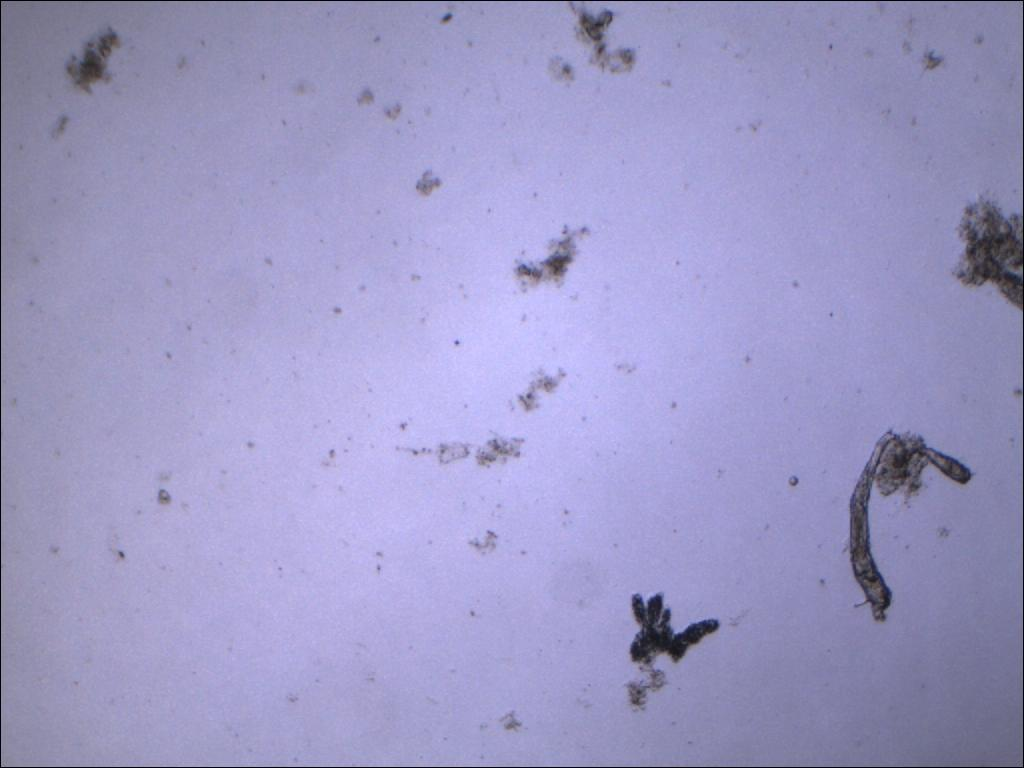amoeba: (622, 586, 726, 673)
